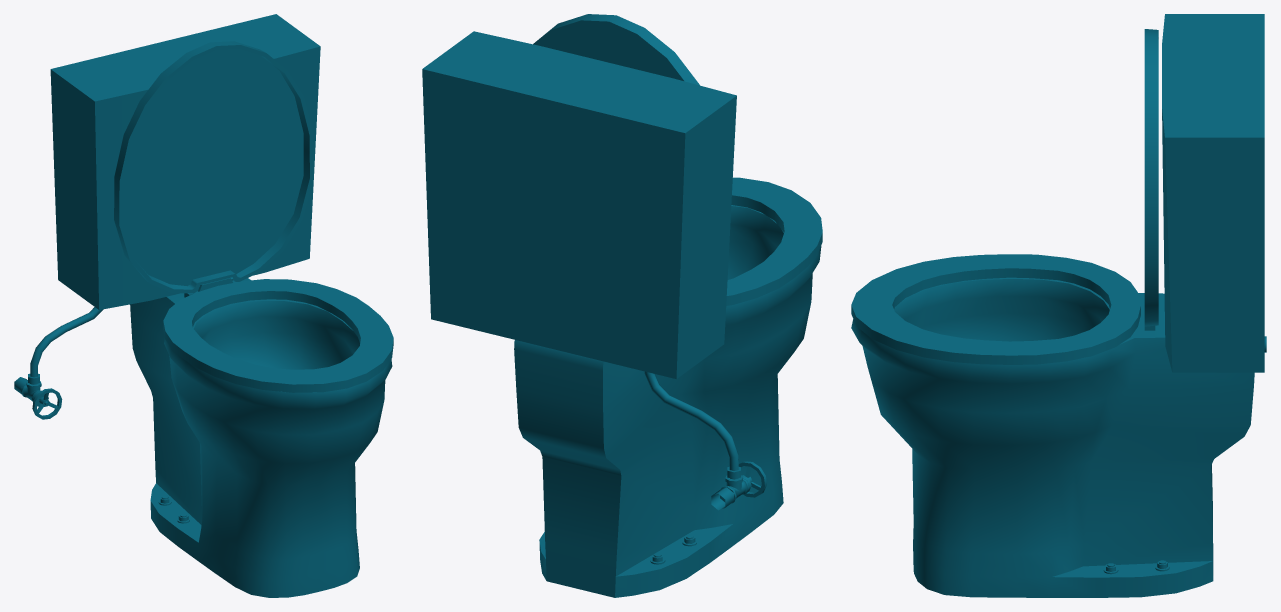
File: Toilet_A_Snaps004.FBX
The picture shows the model from 3 angles, left to right: view 1: azimuth 30°, elevation 25°; view 2: azimuth 150°, elevation 25°; view 3: azimuth 270°, elevation 25°; orthographic projection. The views are drawn at different scales.
Visible parts, largest first — view 1: Geometry_Toilet_A_LOD00; view 2: Geometry_Toilet_A_LOD00; view 3: Geometry_Toilet_A_LOD00.
Part boxes in pixels (x1,y1,x2,y2): Geometry_Toilet_A_LOD00: [14, 14, 393, 597]; Geometry_Toilet_A_LOD00: [422, 14, 822, 597]; Geometry_Toilet_A_LOD00: [851, 14, 1266, 597].
Size of what is drawn, in the model's own units: 74.39 by 124 by 88.56.
